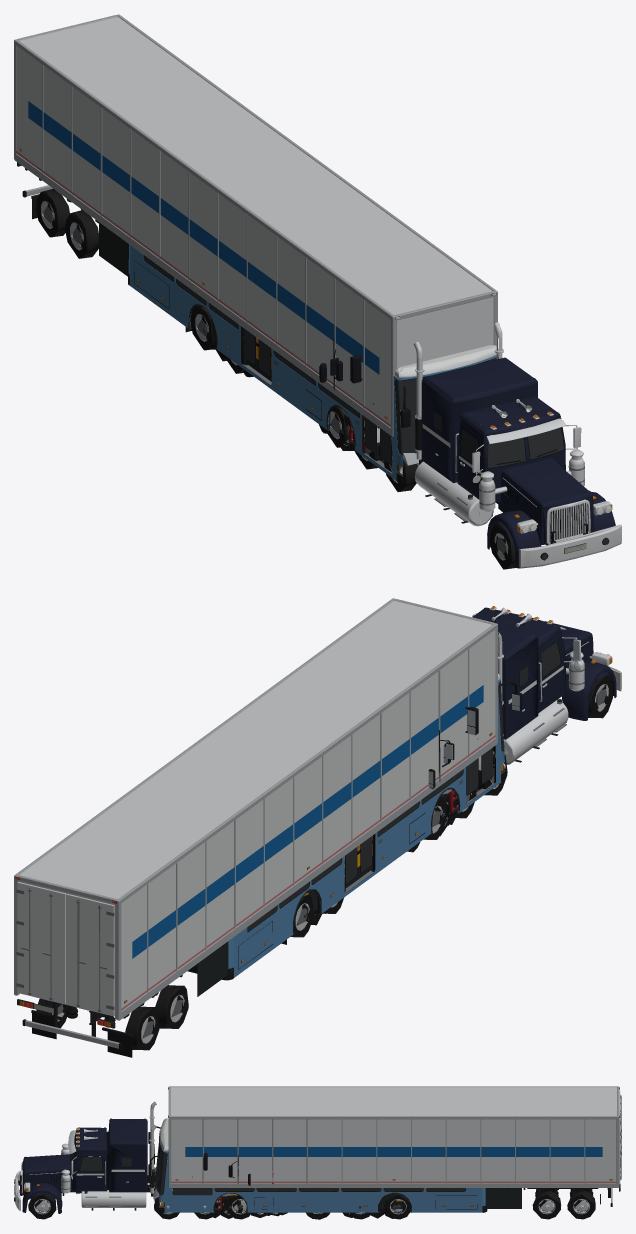
The model's file is lw-traffic.glb.
3 views of the same model, one above another, from view 1: azimuth 30°, elevation 25°; view 2: azimuth 150°, elevation 25°; view 3: azimuth 270°, elevation 25° (orthographic). The views are drawn at different scales.
Visible parts, largest first — view 1: dry-van-semi_r1, dry-van-semi_r2, dry-van-semi_r0, city-bus_r1, dry-van-semi_far_r1, dry-van-semi_far_r2, dry-van-semi_far_r0, city-bus_far_r3, dry-van-semi_r3, city-bus_r3, tanker-truck_far_r1, city-bus_far_r1; view 2: dry-van-semi_r1, dry-van-semi_r2, city-bus_r1, dry-van-semi_r0, dry-van-semi_far_r1, dry-van-semi_far_r2, city-bus_far_r3, dry-van-semi_far_r0, tanker-truck_far_r1, city-bus_far_r1; view 3: dry-van-semi_r1, dry-van-semi_r2, city-bus_far_r1, dry-van-semi_r0, dry-van-semi_far_r2, dry-van-semi_far_r1, city-bus_r1, dry-van-semi_far_r0, city-bus_far_r3, tanker-truck_far_r1, city-bus_r3, dry-van-semi_r3 (+1 smaller).
Part boxes in pixels (x1,y1,x2,y2): dry-van-semi_r1: [16, 17, 612, 560]; dry-van-semi_r2: [14, 14, 621, 568]; dry-van-semi_r0: [421, 357, 615, 568]; city-bus_r1: [128, 244, 498, 484]; dry-van-semi_far_r1: [18, 163, 586, 569]; dry-van-semi_far_r2: [16, 15, 621, 568]; dry-van-semi_far_r0: [424, 357, 594, 549]; city-bus_far_r3: [144, 255, 403, 464]; dry-van-semi_r3: [434, 411, 608, 559]; city-bus_r3: [144, 259, 498, 464]; tanker-truck_far_r1: [185, 305, 353, 447]; city-bus_far_r1: [129, 255, 493, 474]; dry-van-semi_r1: [15, 601, 612, 1057]; dry-van-semi_r2: [14, 598, 621, 1048]; city-bus_r1: [187, 674, 522, 980]; dry-van-semi_r0: [472, 607, 616, 738]; dry-van-semi_far_r1: [17, 642, 613, 1050]; dry-van-semi_far_r2: [14, 599, 620, 1043]; city-bus_far_r3: [247, 686, 504, 930]; dry-van-semi_far_r0: [473, 608, 614, 736]; tanker-truck_far_r1: [290, 709, 476, 937]; city-bus_far_r1: [233, 679, 503, 978]; dry-van-semi_r1: [14, 1087, 620, 1210]; dry-van-semi_r2: [14, 1086, 621, 1210]; city-bus_far_r1: [154, 1119, 483, 1218]; dry-van-semi_r0: [22, 1118, 147, 1213]; dry-van-semi_far_r2: [15, 1087, 619, 1214]; dry-van-semi_far_r1: [14, 1090, 620, 1219]; city-bus_r1: [148, 1118, 487, 1212]; dry-van-semi_far_r0: [23, 1118, 145, 1209]; city-bus_far_r3: [160, 1154, 464, 1194]; tanker-truck_far_r1: [207, 1154, 410, 1219]; city-bus_r3: [155, 1139, 465, 1194]; dry-van-semi_r3: [14, 1152, 620, 1200].
Bounding box in the file's own units: 3.68 × 4.62 × 21.78.
